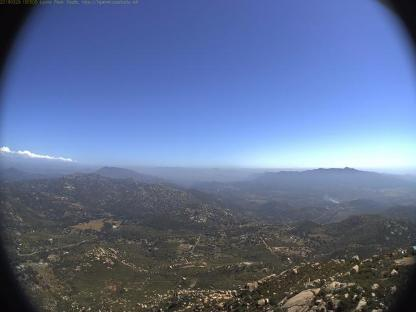smoke: (322, 194, 342, 207)
